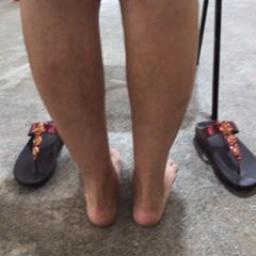Back View -Both Feet-: (56, 136, 186, 228)
